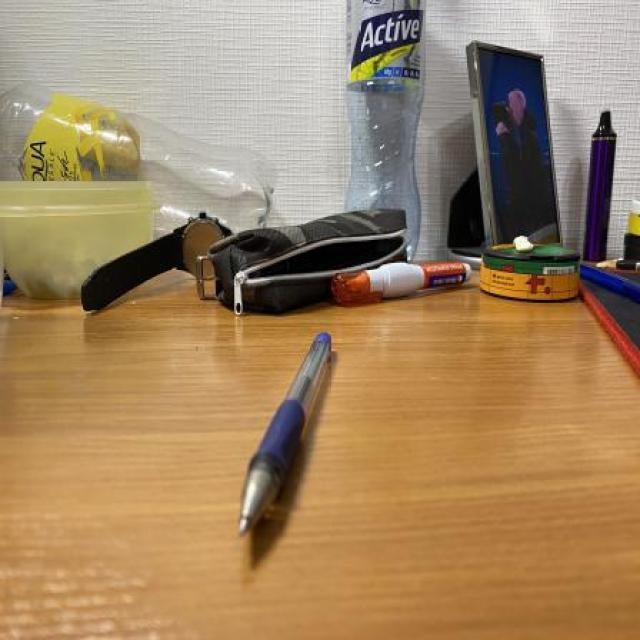pen: (237, 329, 333, 545)
